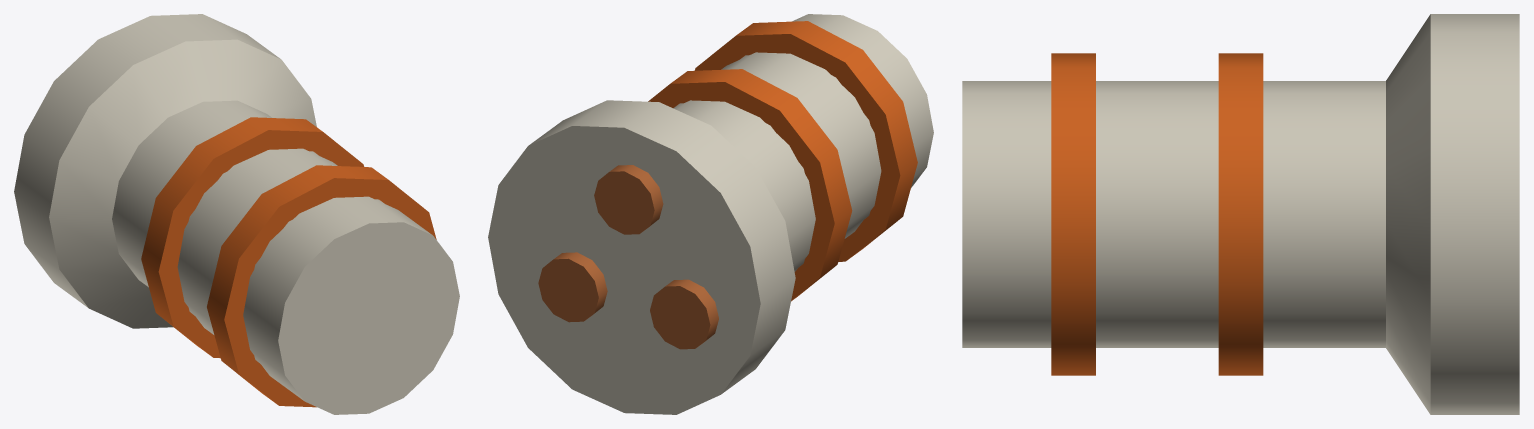
File: u33_busbar.obj
The picture shows the model from 3 angles, left to right: view 1: azimuth 30°, elevation 25°; view 2: azimuth 150°, elevation 25°; view 3: azimuth 270°, elevation 25°; orthographic projection. The views are drawn at different scales.
Parts seen in each view (by area): view 1: u33_busbar; view 2: u33_busbar; view 3: u33_busbar.
Boxes of the visible parts, x1,y1,x2,y2 form: u33_busbar: (14,14,459,414); u33_busbar: (488,14,933,414); u33_busbar: (962,14,1519,414).
Bounding box in the file's own units: 0.72 × 0.72 × 1.
